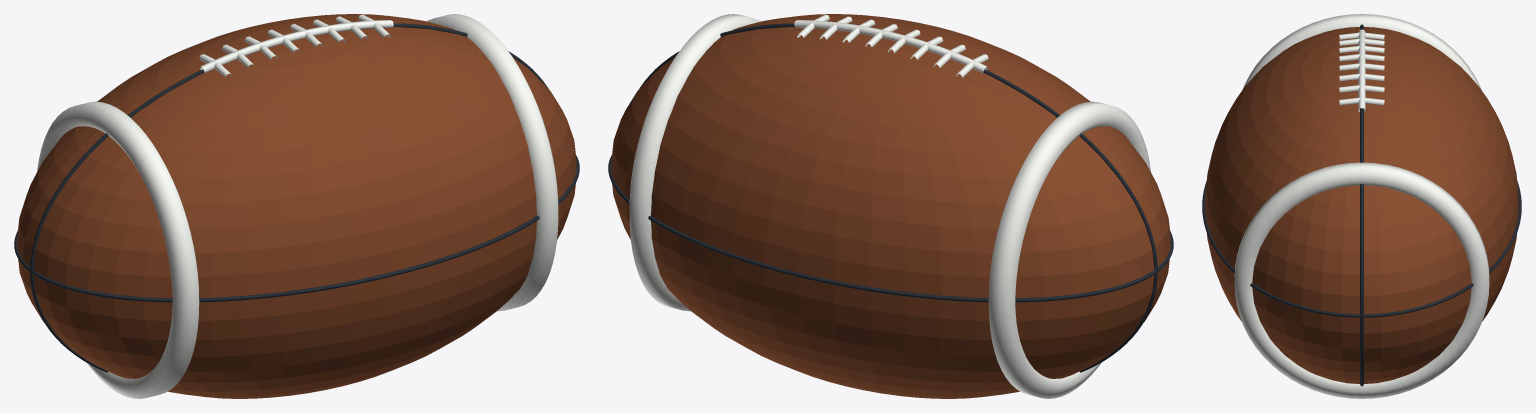
The model's file is american_football.glb.
3 views of the same model, side by side, from view 1: azimuth 30°, elevation 25°; view 2: azimuth 150°, elevation 25°; view 3: azimuth 270°, elevation 25° (orthographic). The views are drawn at different scales.
Visible parts, largest first — view 1: american_football; view 2: american_football; view 3: american_football.
Boxes of the visible parts, x1,y1,x2,y2 form: american_football: (14, 14, 579, 398); american_football: (608, 14, 1173, 398); american_football: (1202, 14, 1521, 398).
Size of the model in its own units: 0.282 by 0.174 by 0.1728.
